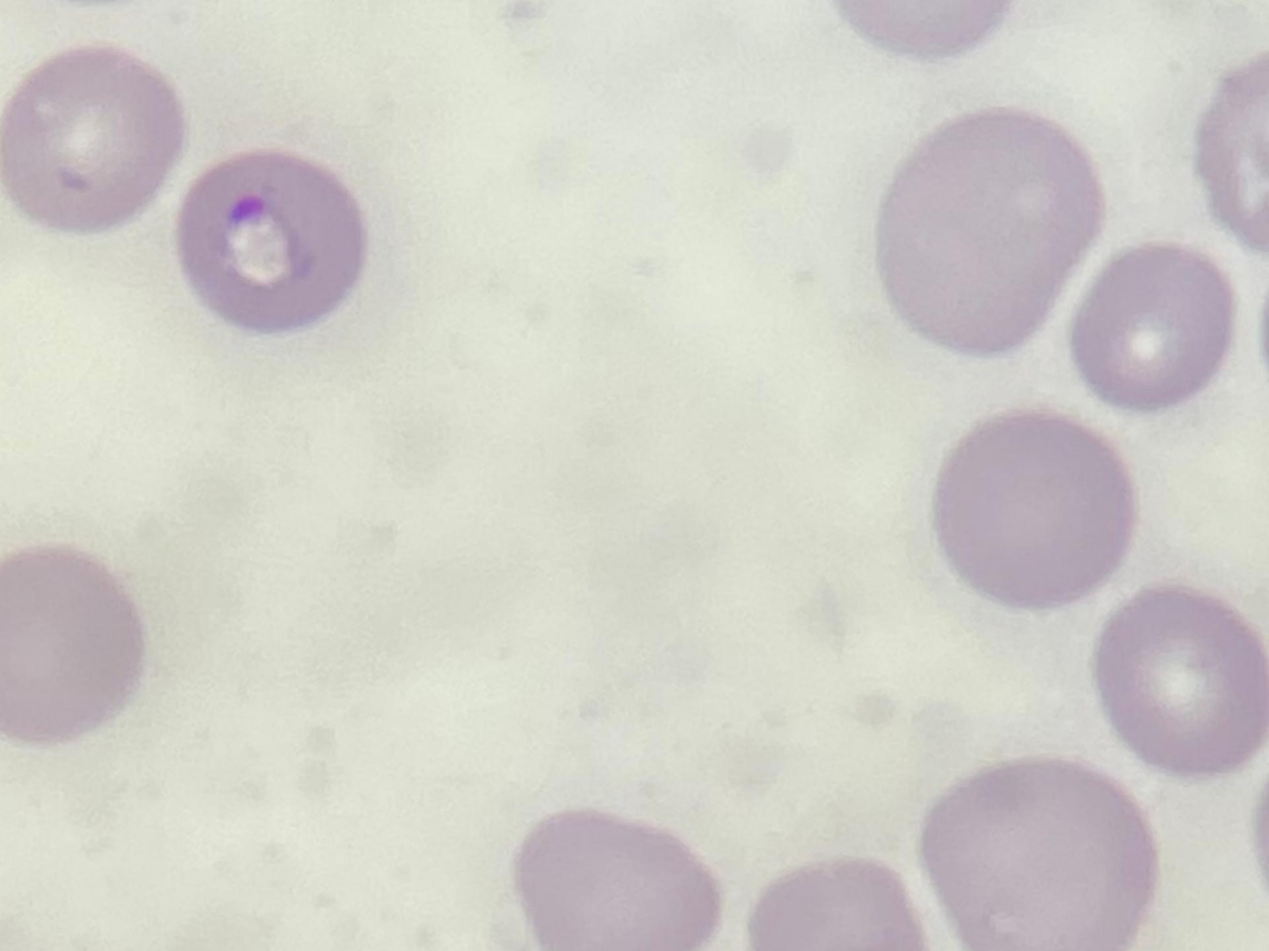Infected: (174, 149, 372, 330)
Uninfected: (868, 111, 1099, 356), (919, 759, 1153, 951), (936, 410, 1132, 609), (0, 47, 182, 235), (1093, 587, 1269, 780), (513, 805, 717, 951), (0, 549, 141, 747), (1069, 247, 1237, 408)
